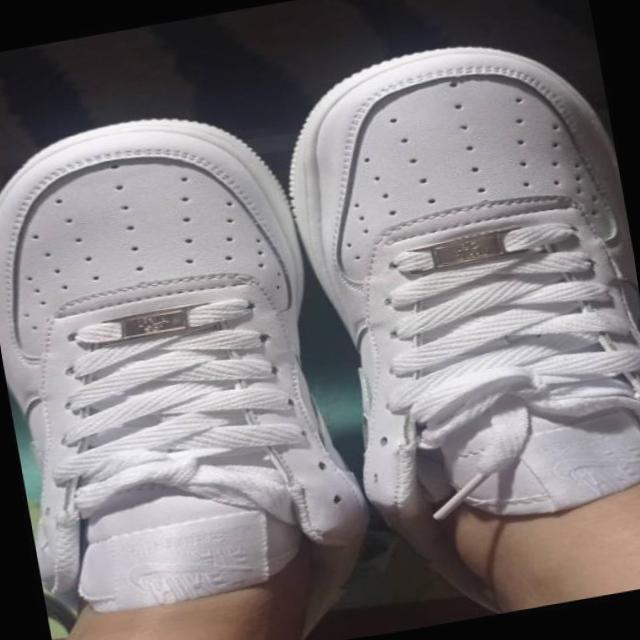nike_fake_airforce: (259, 14, 640, 640), (0, 87, 394, 640)
